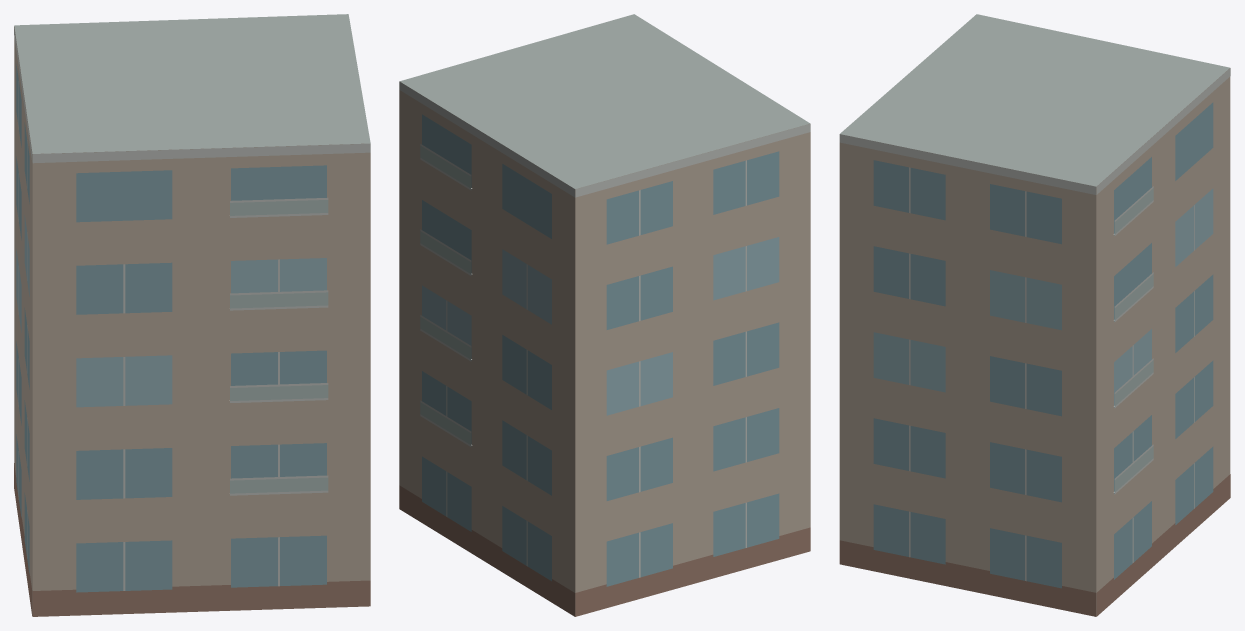
The model's file is survey-upis-32940771.glb.
3 renders of one model, left to right at view 1: azimuth 30°, elevation 25°; view 2: azimuth 150°, elevation 25°; view 3: azimuth 270°, elevation 25°, orthographic. The views are drawn at different scales.
Parts seen in each view (by area): view 1: survey-upis-32940771.tmp; view 2: survey-upis-32940771.tmp; view 3: survey-upis-32940771.tmp.
Part boxes in pixels (<box>): survey-upis-32940771.tmp: <box>14,14,370,616</box>; survey-upis-32940771.tmp: <box>399,14,810,616</box>; survey-upis-32940771.tmp: <box>839,14,1230,616</box>.
Size of the model in its own units: 10.59 by 12.3 by 10.14.
